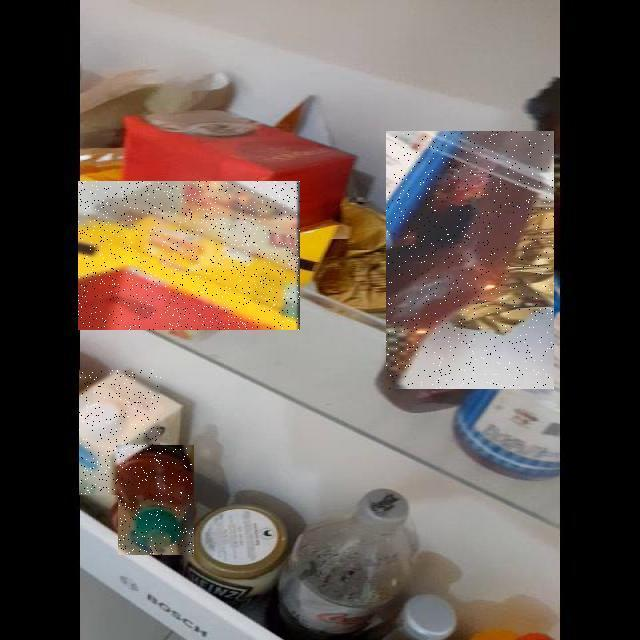Butter: (79, 181, 301, 330)
Milk: (80, 370, 162, 495)
Sauce: (386, 131, 554, 389), (118, 445, 194, 555)
